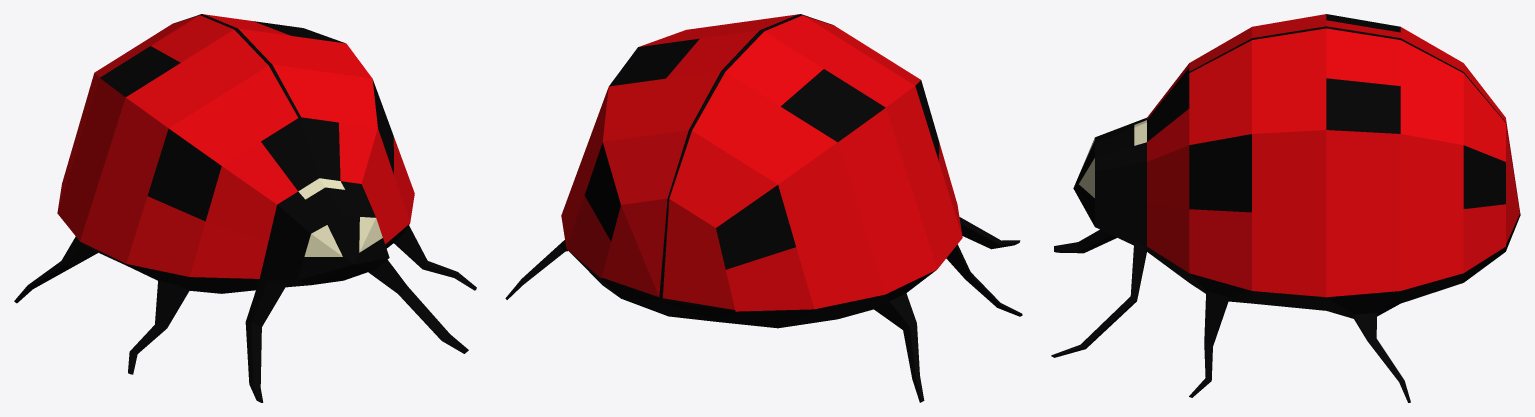
Rendered from bug_new.fbx.
3 views of the same model, side by side, from view 1: azimuth 30°, elevation 25°; view 2: azimuth 150°, elevation 25°; view 3: azimuth 270°, elevation 25° (orthographic). The views are drawn at different scales.
Visible parts, largest first — view 1: Sphere; view 2: Sphere; view 3: Sphere.
Boxes of the visible parts, x1,y1,x2,y2 form: Sphere: (14, 14, 476, 402); Sphere: (505, 14, 1022, 402); Sphere: (1051, 14, 1520, 402).
Size of the model in its own units: 239 by 159 by 242.
